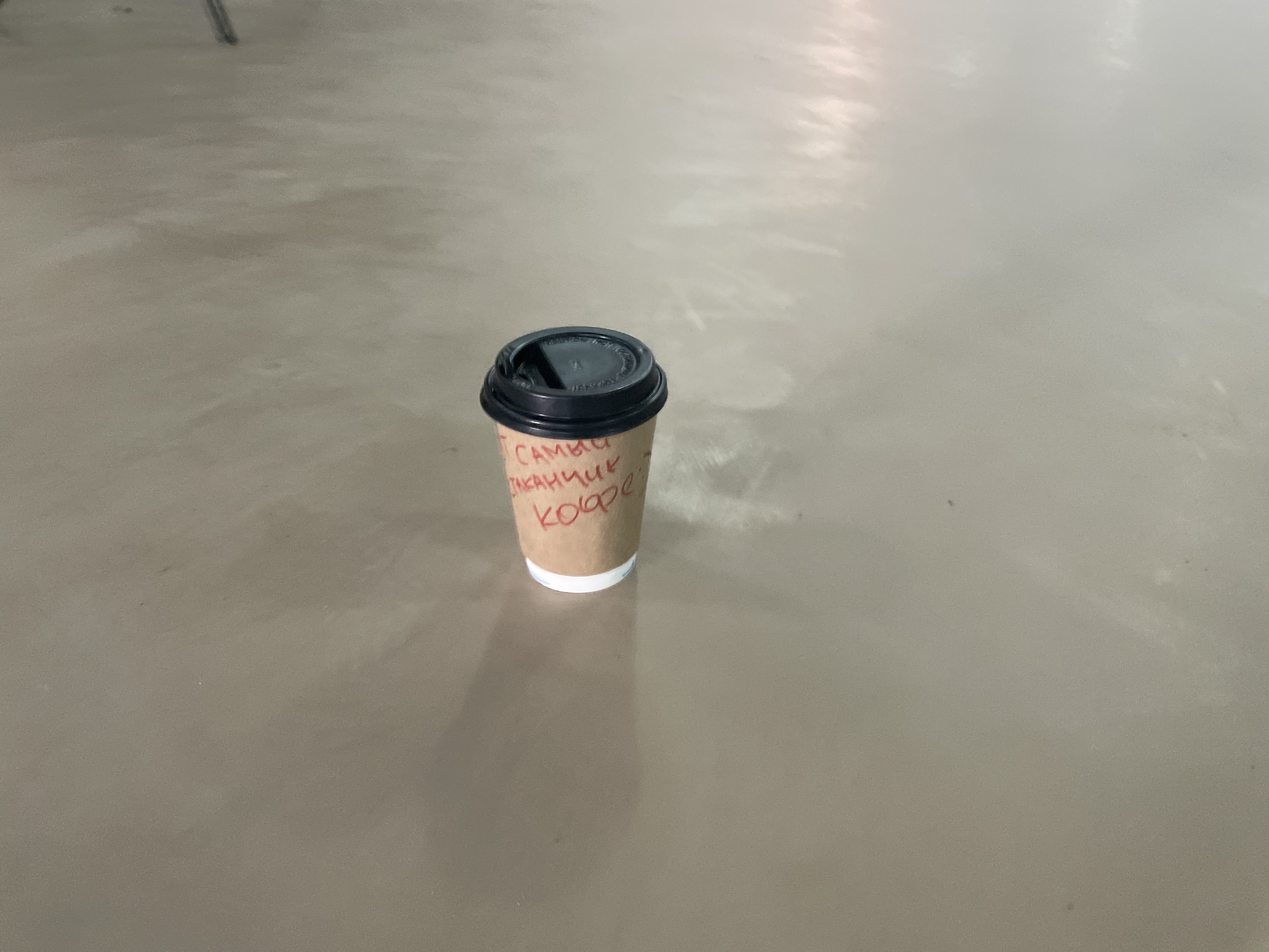cup: (480, 325, 667, 592)
